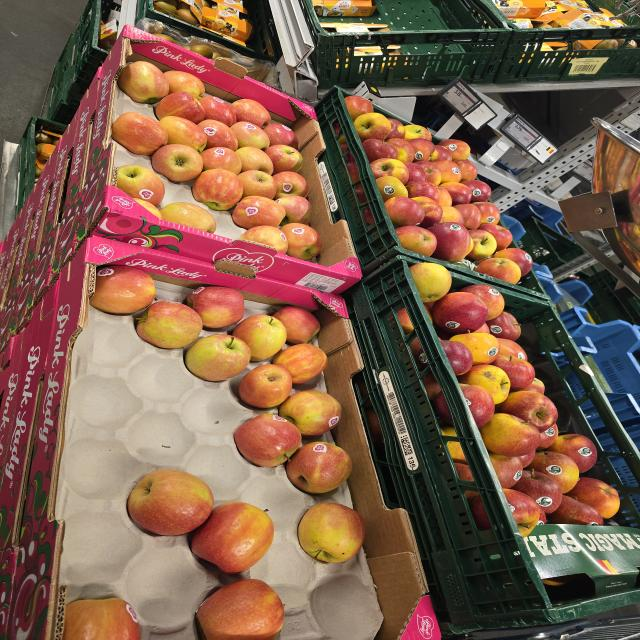Apple: (190, 502, 274, 573), (127, 469, 214, 536), (196, 579, 284, 640), (298, 503, 365, 563), (234, 414, 301, 467), (285, 442, 352, 494), (89, 265, 156, 314), (63, 598, 140, 640), (136, 301, 202, 349), (184, 334, 250, 381), (278, 390, 341, 436), (479, 413, 541, 457), (499, 390, 558, 433), (233, 315, 287, 361), (111, 112, 168, 155), (187, 286, 244, 328), (239, 364, 292, 408), (433, 292, 488, 334), (566, 478, 620, 519), (272, 344, 327, 384), (117, 61, 169, 103), (529, 451, 579, 494), (192, 169, 243, 210), (459, 364, 510, 405), (117, 165, 165, 207), (151, 144, 203, 182), (547, 434, 597, 473), (272, 306, 320, 344), (409, 262, 452, 303), (427, 222, 472, 261), (232, 196, 285, 229), (159, 116, 207, 152), (279, 223, 322, 263), (160, 203, 216, 233), (460, 284, 505, 321), (154, 92, 205, 124), (491, 355, 535, 392), (451, 332, 500, 365), (239, 225, 288, 254), (197, 119, 238, 151), (384, 196, 425, 227), (396, 226, 437, 256), (492, 248, 533, 277), (164, 70, 205, 99), (199, 96, 237, 127), (476, 258, 521, 284), (230, 121, 270, 150), (276, 194, 312, 226), (230, 99, 271, 127), (201, 147, 242, 175), (264, 144, 302, 174), (238, 170, 277, 199), (441, 341, 473, 376), (235, 147, 273, 175), (272, 171, 309, 199), (354, 113, 392, 140), (486, 312, 521, 341), (467, 230, 497, 262), (371, 159, 409, 184), (262, 123, 298, 149), (478, 223, 512, 250), (362, 139, 399, 163), (376, 176, 408, 200), (439, 182, 472, 205), (431, 160, 462, 183), (438, 139, 470, 161), (453, 204, 481, 229), (406, 181, 439, 202), (470, 202, 500, 224), (461, 180, 491, 202)
